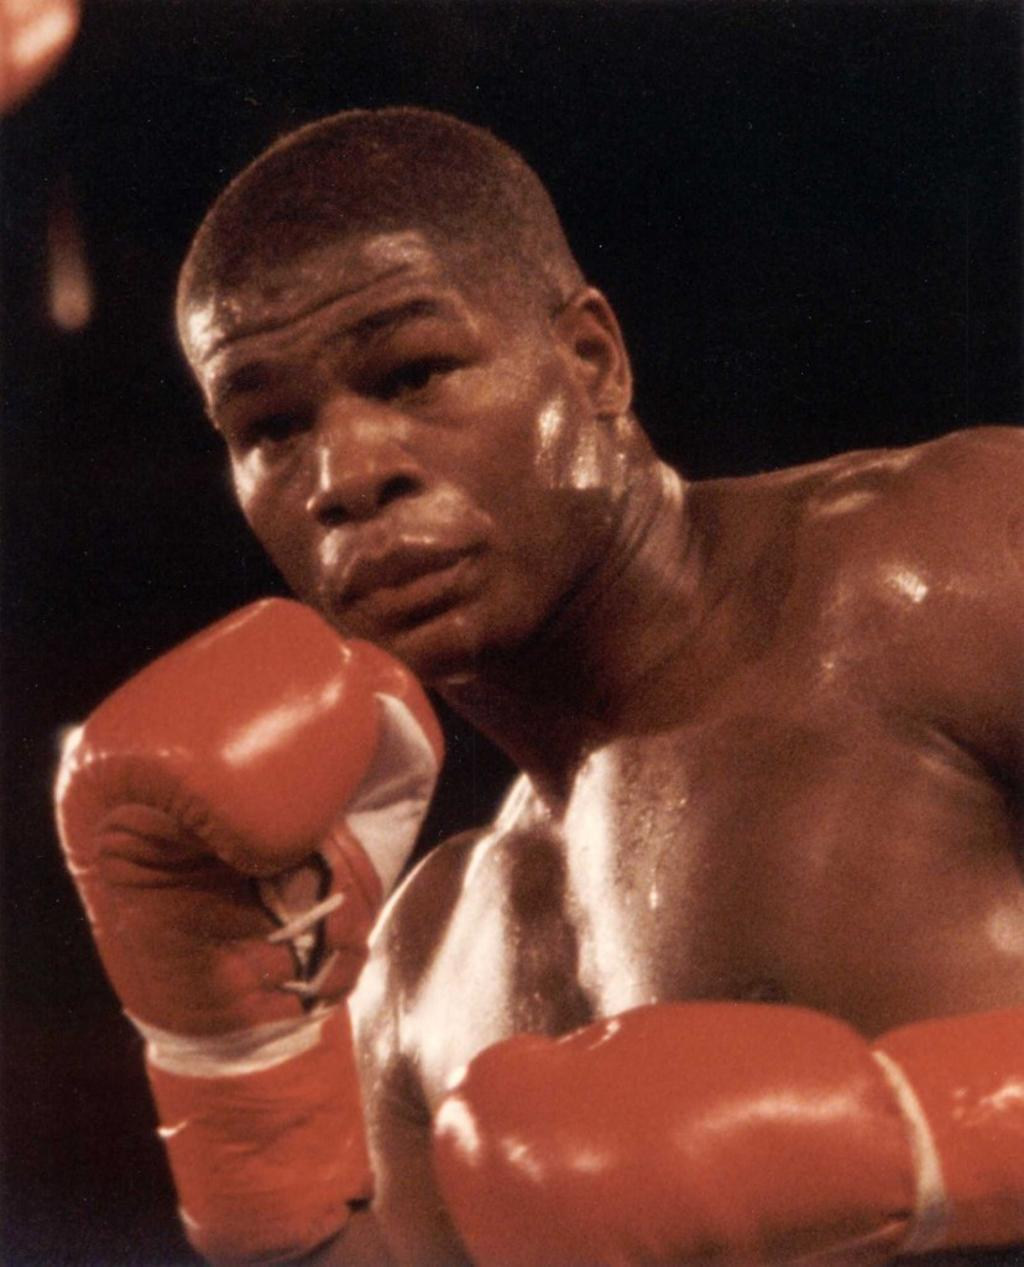face: (173, 299, 579, 665)
